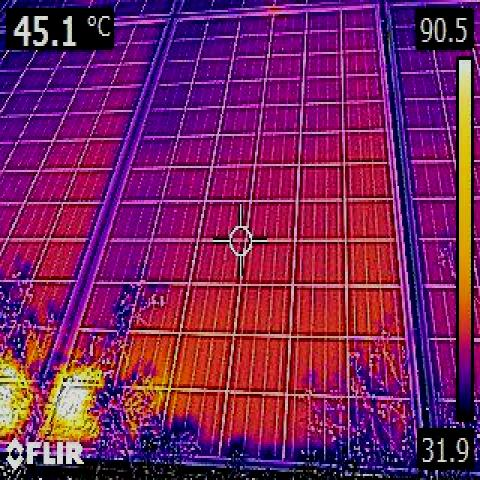fault: (56, 381, 104, 439), (0, 379, 41, 434)
